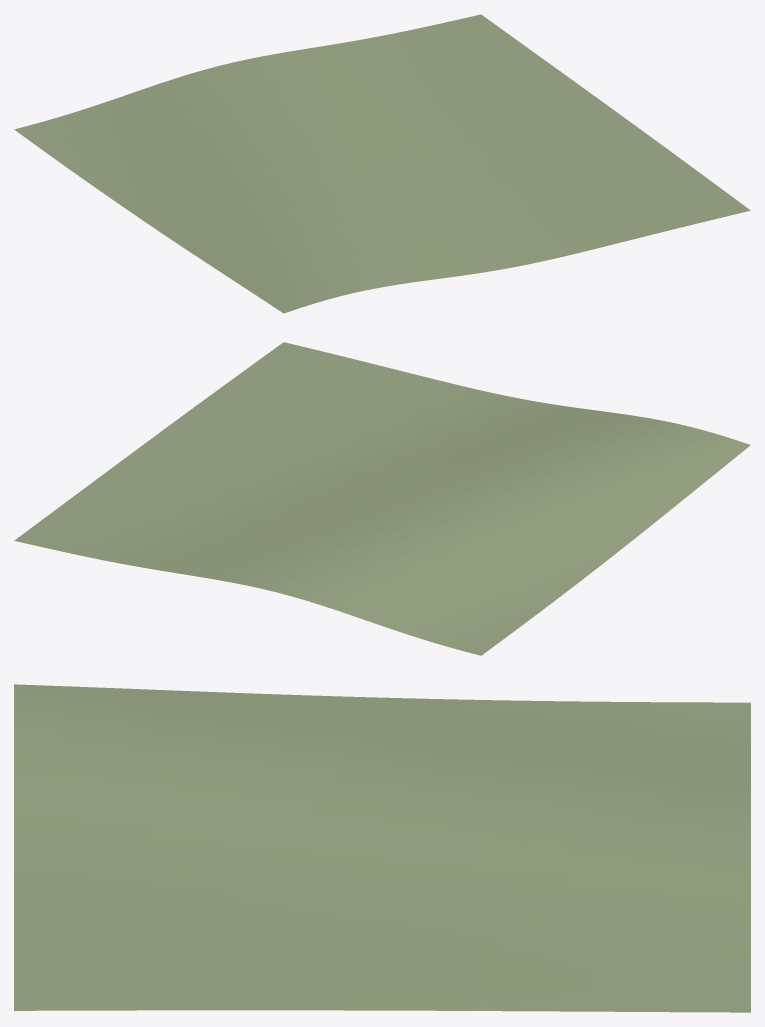
The model's file is desert-11-6.glb.
3 views of the same model, one above another, from view 1: azimuth 30°, elevation 25°; view 2: azimuth 150°, elevation 25°; view 3: azimuth 270°, elevation 25° (orthographic). The views are drawn at different scales.
Parts seen in each view (by area): view 1: desert-11-6; view 2: desert-11-6; view 3: desert-11-6.
Part boxes in pixels (x1,y1,x2,y2): desert-11-6: (14, 14, 750, 313); desert-11-6: (14, 342, 750, 655); desert-11-6: (14, 684, 750, 1012).
Bounding box in the file's own units: 512 × 17.63 × 512.
